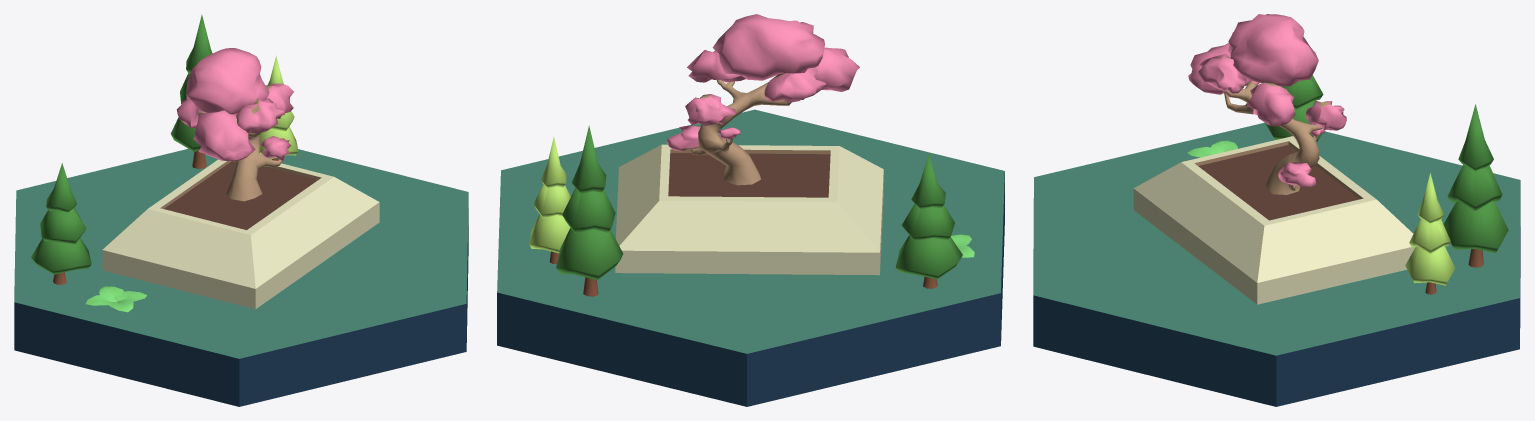
File: Macro - Townhall lvl 123 Soil Land rev.fbx
3 views of the same model, side by side, from view 1: azimuth 30°, elevation 25°; view 2: azimuth 150°, elevation 25°; view 3: azimuth 270°, elevation 25° (orthographic). The views are drawn at different scales.
Parts seen in each view (by area): view 1: Cylinder.051, Bonsai.003, Tree_Spruce_tiny_01.003, Tree_Spruce_tiny_01.002, Tree_Spruce_tiny_01.001, Plane.001; view 2: Cylinder.051, Bonsai.003, Tree_Spruce_tiny_01.002, Tree_Spruce_tiny_01.003, Tree_Spruce_tiny_01.001; view 3: Cylinder.051, Bonsai.003, Tree_Spruce_tiny_01.002, Tree_Spruce_tiny_01.001, Tree_Spruce_tiny_01.003, Plane.001.
Part boxes in pixels (x1,y1,x2,y2): Cylinder.051: (14,148,468,406); Bonsai.003: (102,48,379,309); Tree_Spruce_tiny_01.003: (31,163,91,284); Tree_Spruce_tiny_01.002: (170,14,212,168); Tree_Spruce_tiny_01.001: (259,55,298,160); Plane.001: (85,286,146,312); Cylinder.051: (497,109,1004,406); Bonsai.003: (615,14,883,275); Tree_Spruce_tiny_01.002: (556,125,623,296); Tree_Spruce_tiny_01.003: (895,153,962,288); Tree_Spruce_tiny_01.001: (529,136,570,263); Cylinder.051: (1033,122,1520,406); Bonsai.003: (1133,14,1415,304); Tree_Spruce_tiny_01.002: (1443,104,1508,267); Tree_Spruce_tiny_01.001: (1405,173,1455,294); Tree_Spruce_tiny_01.003: (1265,75,1323,142); Plane.001: (1187,140,1237,157).
Size of the model in its own units: 197 by 102 by 172.
